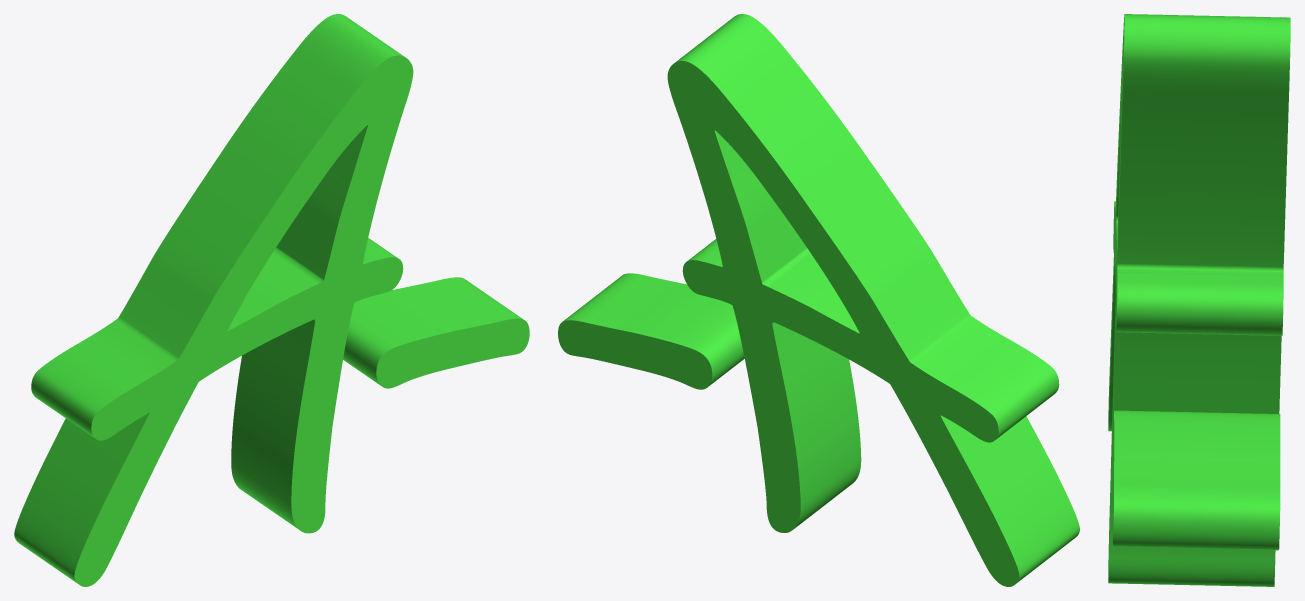
3 renders of one model, left to right at view 1: azimuth 30°, elevation 25°; view 2: azimuth 150°, elevation 25°; view 3: azimuth 270°, elevation 25°, orthographic. The views are drawn at different scales.
Visible parts, largest first — view 1: Text; view 2: Text; view 3: Text.
Boxes of the visible parts, box(x1,y1,x2,y2) form: Text: box(14, 14, 529, 586); Text: box(558, 14, 1079, 586); Text: box(1108, 14, 1290, 586).
Size of the model in its own units: 0.614 by 0.5828 by 0.1538.
